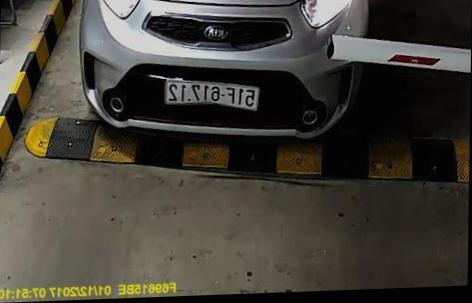License_Plate: (160, 76, 260, 112)
